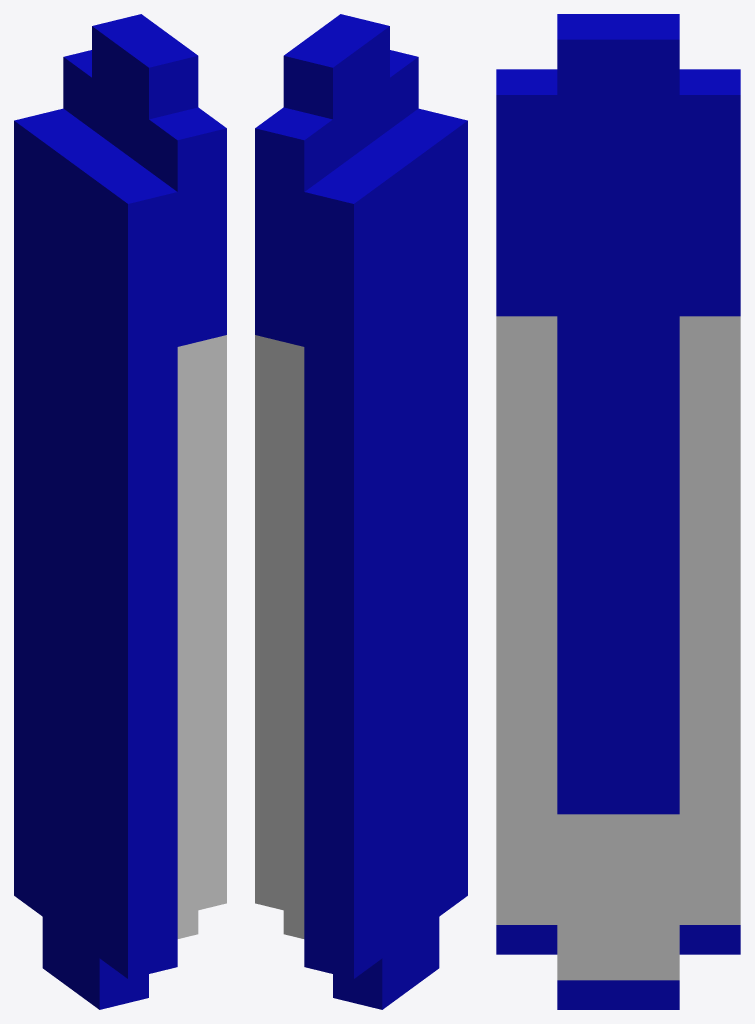
The model's file is penguin01_rightArm.obj.
3 renders of one model, left to right at view 1: azimuth 30°, elevation 25°; view 2: azimuth 150°, elevation 25°; view 3: azimuth 270°, elevation 25°, orthographic. The views are drawn at different scales.
Bounding box in the file's own units: 0.2 × 1.8 × 0.4.
Materials: 1 (1 with a texture image).
